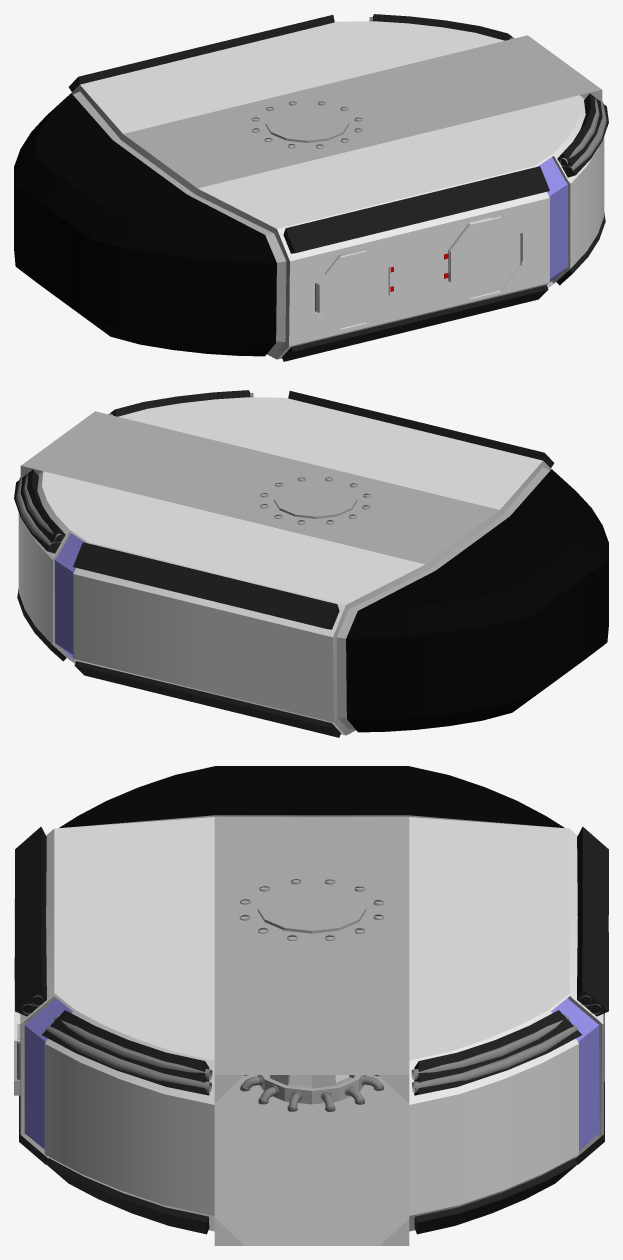
File: Control_room.fbx
3 renders of one model, top to bottom at view 1: azimuth 30°, elevation 25°; view 2: azimuth 150°, elevation 25°; view 3: azimuth 270°, elevation 25°, orthographic. The views are drawn at different scales.
Visible parts, largest first — view 1: SalledeControle.001, CapsulesDoors.001, CapsulesDoors, CentralEnergyPillar; view 2: SalledeControle.001, CentralEnergyPillar; view 3: SalledeControle.001, CentralEnergyPillar.
Part boxes in pixels (bbox=[...]): SalledeControle.001: bbox=[14, 14, 608, 361]; CapsulesDoors.001: bbox=[444, 216, 522, 297]; CapsulesDoors: bbox=[315, 247, 393, 329]; CentralEnergyPillar: bbox=[251, 101, 362, 148]; SalledeControle.001: bbox=[14, 390, 608, 737]; CentralEnergyPillar: bbox=[260, 477, 371, 524]; SalledeControle.001: bbox=[14, 766, 608, 1245]; CentralEnergyPillar: bbox=[239, 879, 384, 1111].
Bounding box in the file's own units: 1593 × 404 × 1224.
